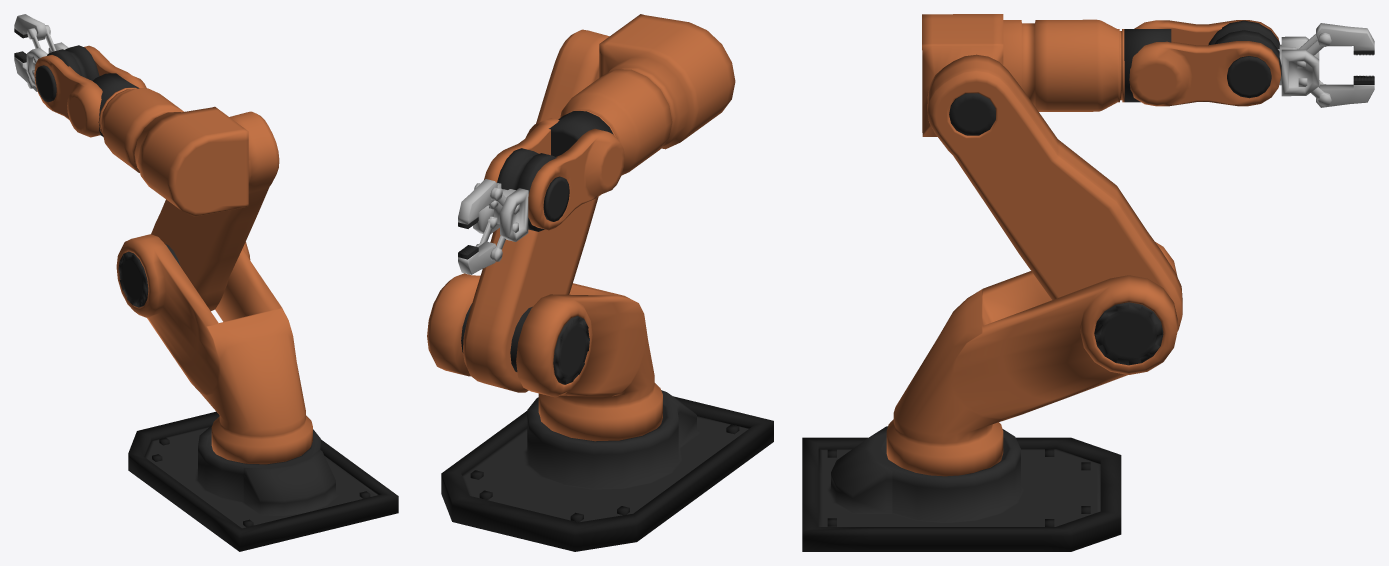
The model's file is RobotArm_model_LP.fbx.
The picture shows the model from 3 angles, left to right: view 1: azimuth 30°, elevation 25°; view 2: azimuth 150°, elevation 25°; view 3: azimuth 270°, elevation 25°; orthographic projection. The views are drawn at different scales.
Parts seen in each view (by area): view 1: Cylinder.003, Cylinder.014, Cylinder.005, Cylinder.010, Cube.003, Cylinder.016, Cylinder.004, Cylinder.015, Cylinder.018, Cylinder.017, Cube.010; view 2: Cylinder.003, Cylinder.005, Cylinder.014, Cube.003, Cylinder.010, Cylinder.016, Cylinder.004, Cube.008, Cylinder.015, Cylinder.018, Cube.010, Cylinder.017 (+2 smaller); view 3: Cylinder.003, Cube.003, Cylinder.005, Cylinder.014, Cylinder.010, Cylinder.016, Cylinder.004, Cube.008, Cylinder.013, Cylinder.017, Cylinder.015, Cylinder.018 (+2 smaller).
Part boxes in pixels (x1,y1,x2,y2): Cylinder.003: (116,234,312,464); Cylinder.014: (99,87,251,216); Cylinder.005: (145,426,377,528); Cylinder.010: (128,411,398,551); Cube.003: (151,111,279,310); Cylinder.016: (34,45,146,137); Cylinder.004: (118,244,180,307); Cylinder.015: (47,45,99,80); Cylinder.018: (93,73,139,136); Cylinder.017: (35,65,56,102); Cube.010: (14,14,46,40); Cylinder.003: (427,273,662,441); Cylinder.005: (462,390,748,521); Cylinder.014: (560,14,735,175); Cube.003: (463,29,609,392); Cylinder.010: (441,396,773,551); Cylinder.016: (484,118,624,230); Cylinder.004: (461,303,589,384); Cube.008: (473,182,528,241); Cylinder.015: (497,148,556,231); Cylinder.018: (549,111,613,156); Cube.010: (458,179,497,224); Cylinder.017: (543,176,569,221); Cylinder.003: (886,242,1177,476); Cube.003: (927,54,1182,330); Cylinder.005: (818,426,1100,526); Cylinder.014: (922,14,1124,136); Cylinder.010: (802,437,1121,551); Cylinder.016: (1129,20,1280,106); Cylinder.004: (1094,302,1163,365); Cube.008: (1281,36,1319,96); Cylinder.013: (949,93,995,135); Cylinder.017: (1227,56,1271,98); Cylinder.015: (1208,20,1281,75); Cylinder.018: (1124,29,1171,102).
Size of the model in its own units: 394 by 791 by 911.
